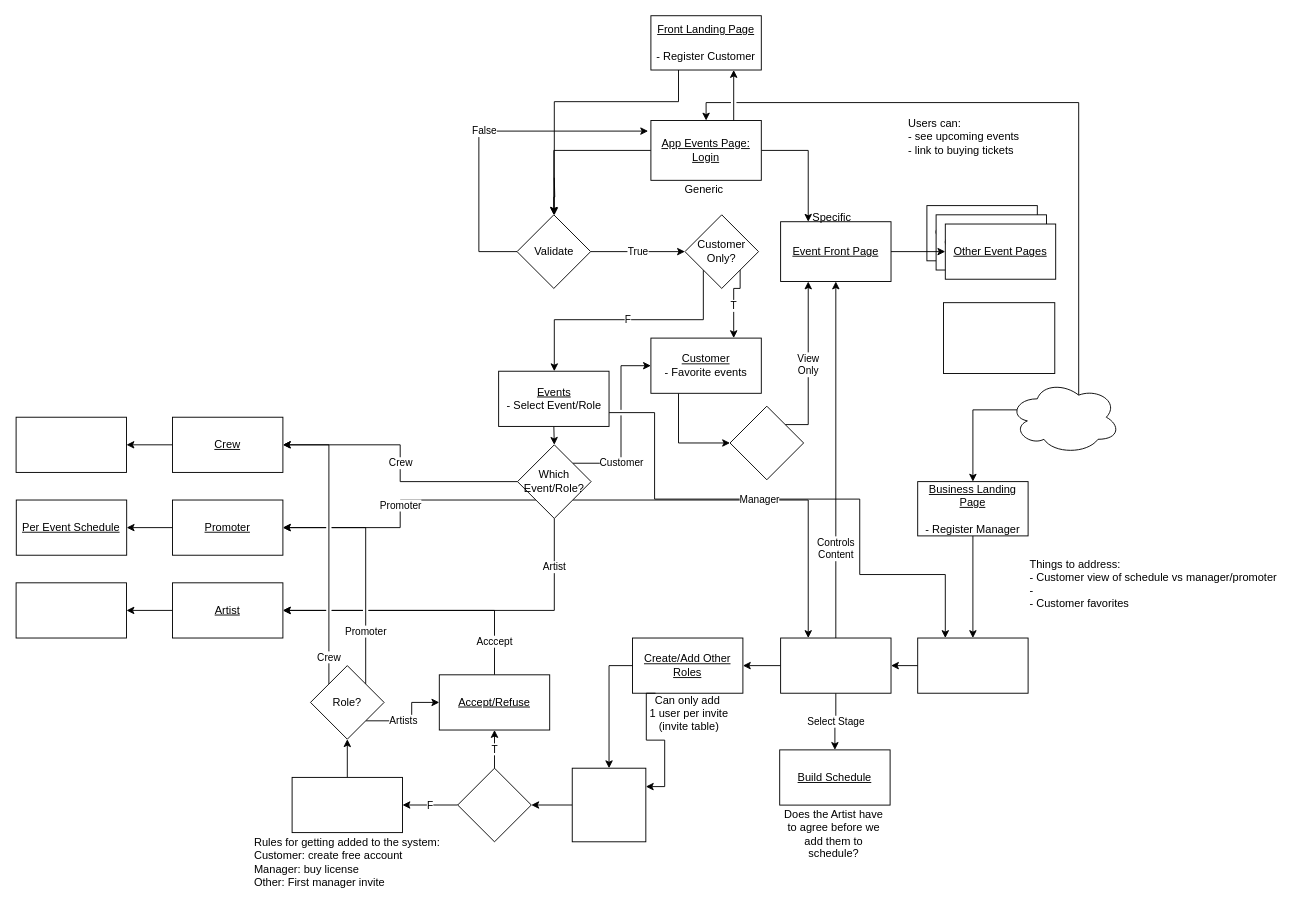
Some shapes in this 1301 by 906 pixel diagram are drawn without their labels. Here are the shapes that lost their labels. From the top down, the centre of each, then its label:
At (999,338): "Is this still valid? {Can go from event page to business page}".
At (1064,417): "Interwebs".
At (70,444): "Single Stage Schedule".
At (766,442): "Select Event".
At (70,610): "Artist per event Schedule".
At (835,665): "Event Management - Add Stages here".
At (972,665): "Create Event".
At (346,804): "Create Account".
At (494,804): "Login?/ Has account?".
At (608,804): "Manager emails requests".
